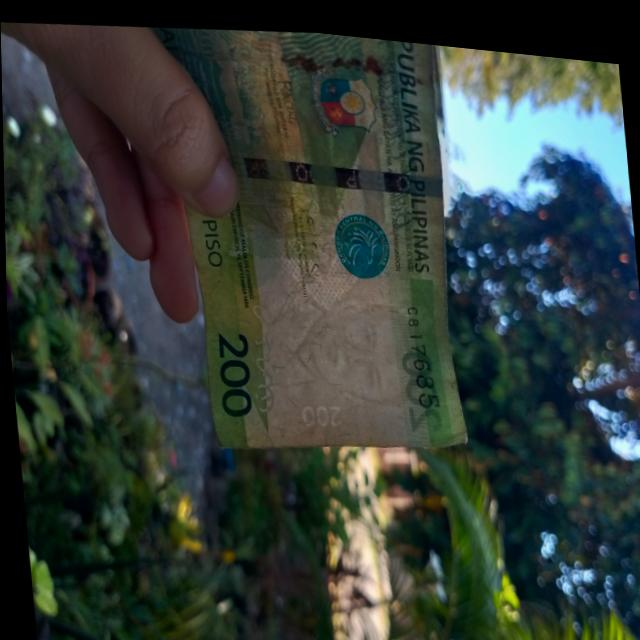security_thread: (222, 136, 440, 207)
see_through_mark: (235, 277, 284, 413)
value_watermark: (289, 390, 345, 433)
watermark: (259, 259, 424, 413)
